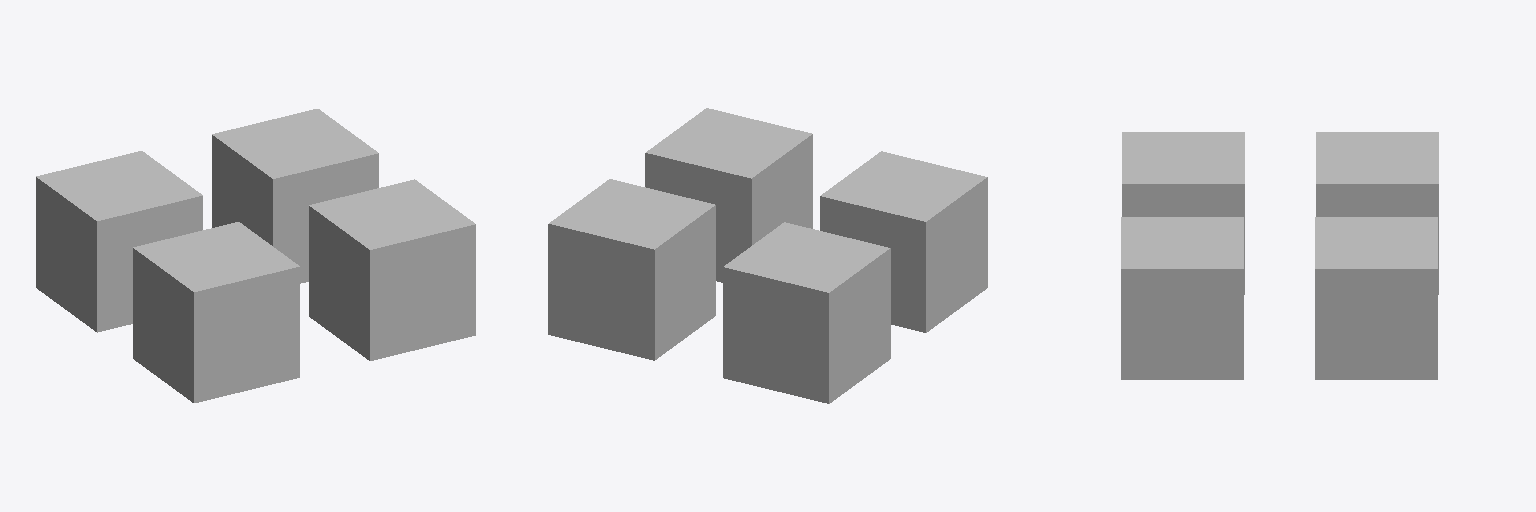
File: scanline_testing.obj
3 renders of one model, left to right at view 1: azimuth 30°, elevation 25°; view 2: azimuth 150°, elevation 25°; view 3: azimuth 270°, elevation 25°, orthographic.
Parts seen in each view (by area): view 1: Cube; view 2: Cube; view 3: Cube.
Part boxes in pixels (x1,y1,x2,y2): Cube: (36, 109, 475, 402); Cube: (548, 108, 987, 403); Cube: (1121, 132, 1438, 379).
Size of the model in its own units: 0.2026 by 0.0765 by 0.1982.